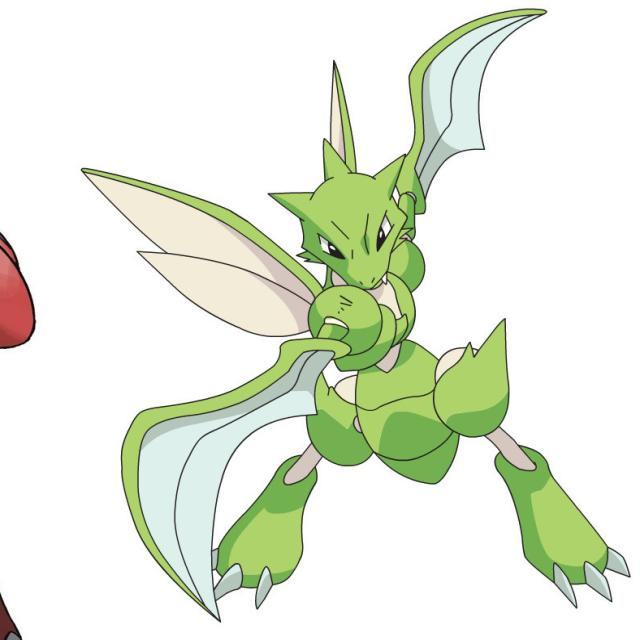Scyther: (118, 61, 600, 599)
